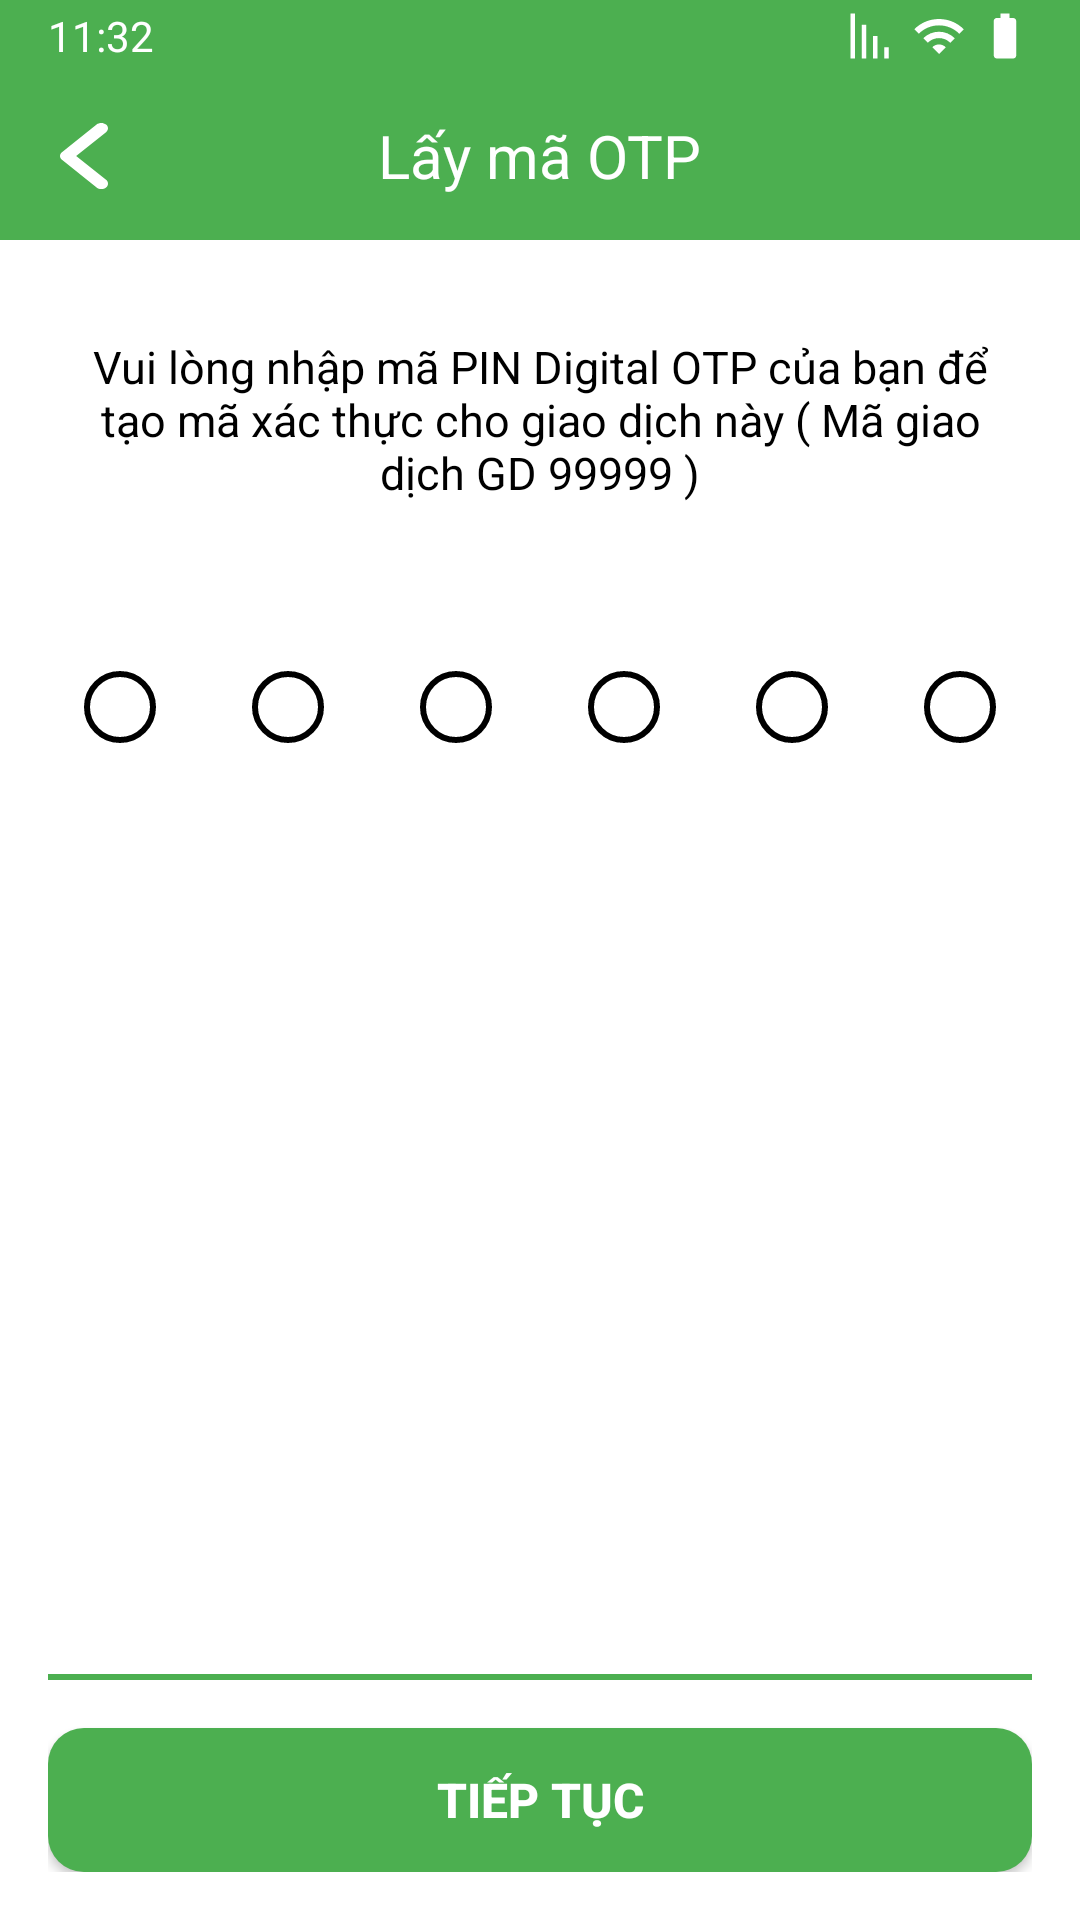

Icons on this 1080px×1920px Android screen, each with its box as (x1, y1, x2, y2):
back: (60, 123, 108, 189)
battery: (993, 13, 1017, 59)
signal: (850, 13, 889, 59)
wifi: (914, 19, 964, 54)
